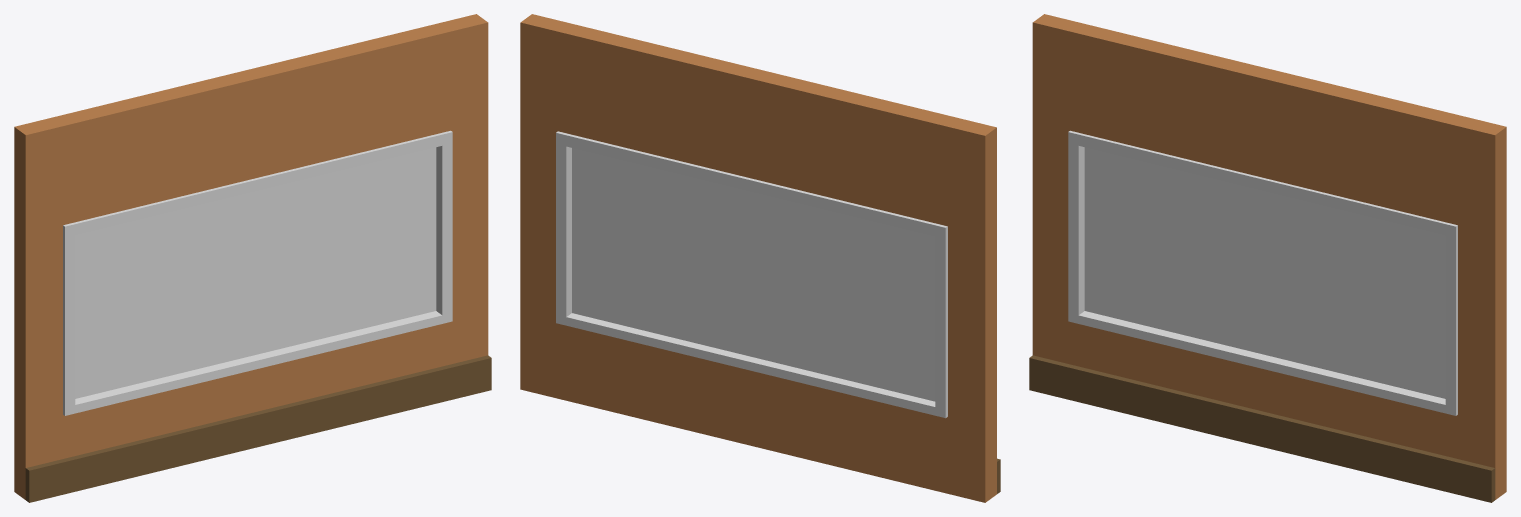
File: C_Wall_Window_Big.fbx
3 views of the same model, side by side, from view 1: azimuth 30°, elevation 25°; view 2: azimuth 150°, elevation 25°; view 3: azimuth 330°, elevation 25° (orthographic).
Visible parts, largest first — view 1: C_Wall_Window_Big; view 2: C_Wall_Window_Big; view 3: C_Wall_Window_Big.
Boxes of the visible parts, x1=… form: C_Wall_Window_Big: x1=14, y1=14, x2=491, y2=502; C_Wall_Window_Big: x1=520, y1=14, x2=1000, y2=502; C_Wall_Window_Big: x1=1029, y1=14, x2=1506, y2=502.
Bounding box in the file's own units: 3000 × 192 × 2264.
